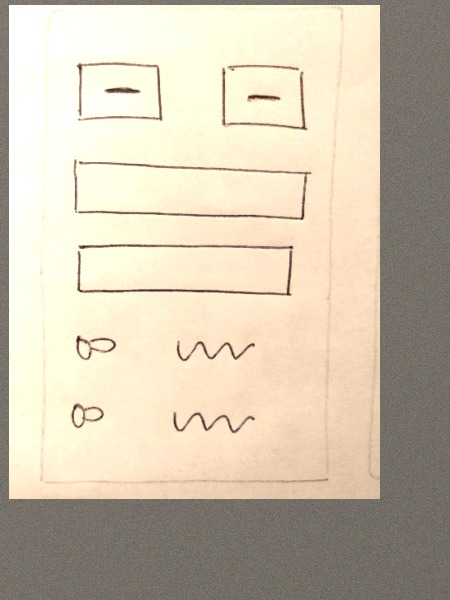button: (213, 57, 311, 138), (72, 54, 170, 134)
switch: (65, 330, 122, 367), (64, 396, 121, 433)
text: (166, 402, 260, 441), (166, 332, 259, 371)
text_input: (68, 153, 314, 229), (72, 237, 296, 307)
